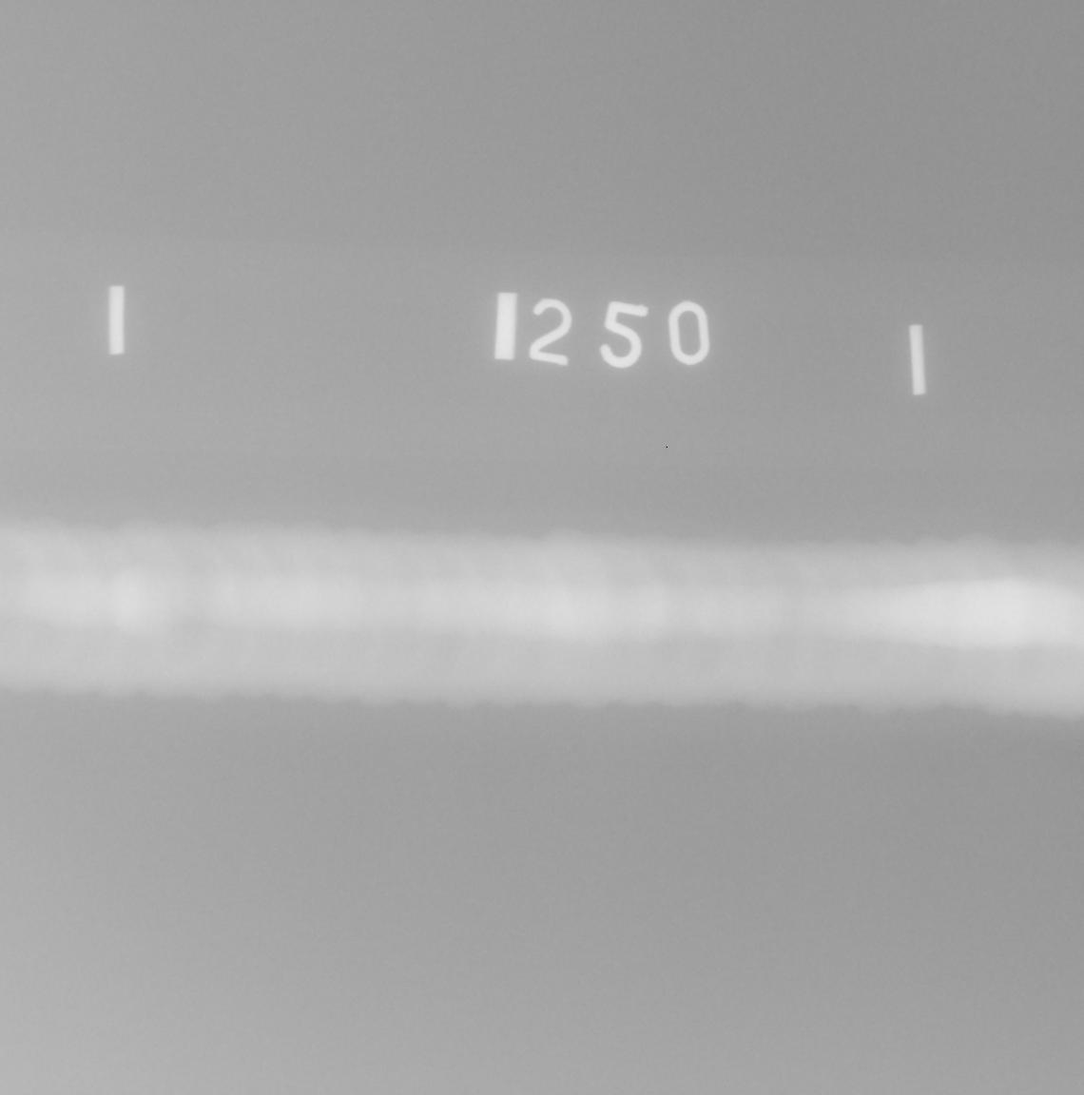Pore/Porosity: (339, 582, 342, 586)
